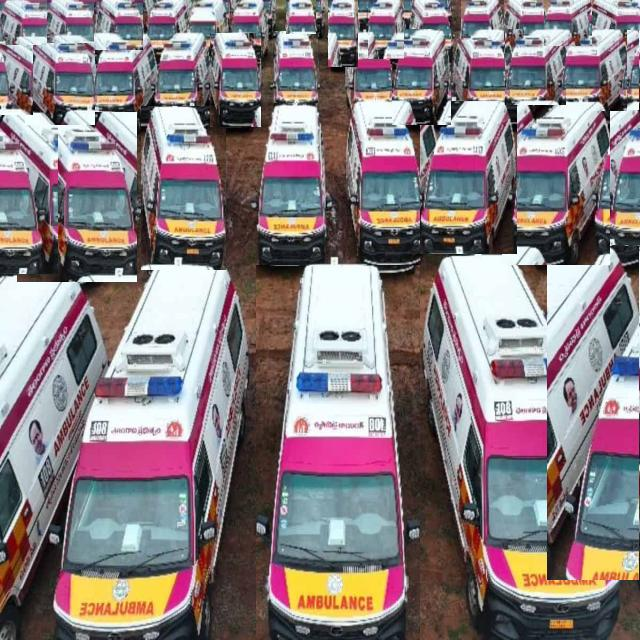emergency: (0, 265, 249, 638), (422, 255, 620, 638), (256, 265, 420, 638), (548, 246, 639, 580), (18, 112, 137, 282), (502, 101, 610, 265), (421, 102, 517, 254), (141, 106, 226, 270), (251, 105, 331, 272), (346, 100, 425, 265), (0, 110, 58, 274), (580, 103, 640, 245), (91, 33, 158, 129), (25, 35, 95, 125), (392, 30, 451, 125), (452, 30, 512, 123), (560, 30, 627, 111), (155, 33, 211, 127), (210, 34, 261, 127), (505, 30, 566, 105), (345, 32, 395, 108), (274, 32, 318, 103), (410, 0, 452, 63), (0, 36, 33, 115), (95, 0, 143, 50), (189, 0, 229, 59), (149, 0, 189, 55), (544, 1, 592, 46), (0, 0, 47, 45), (232, 0, 269, 56), (369, 0, 404, 59), (46, 0, 94, 43), (591, 0, 640, 40), (329, 0, 358, 67), (616, 31, 640, 110), (461, 1, 504, 40), (504, 0, 548, 38), (286, 0, 316, 34)
